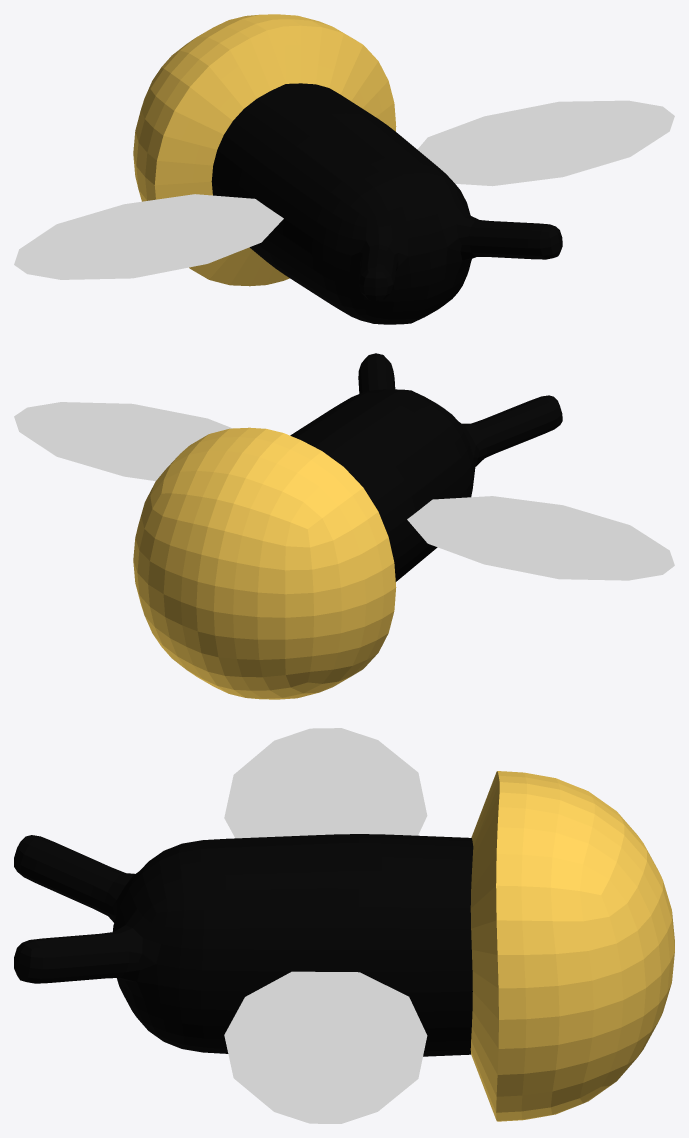
Rendered from LightBug.glb.
3 views of the same model, one above another, from view 1: azimuth 30°, elevation 25°; view 2: azimuth 150°, elevation 25°; view 3: azimuth 270°, elevation 25° (orthographic). The views are drawn at different scales.
Parts seen in each view (by area): view 1: Body, Light, WingR, WingL; view 2: Light, Body, WingR, WingL; view 3: Body, Light, WingL, WingR.
Part boxes in pixels (left/top/right/bottom): Body: left=211, top=83, right=562, bottom=324; Light: left=133, top=14, right=396, bottom=286; WingR: left=14, top=194, right=283, bottom=279; WingL: left=417, top=100, right=674, bottom=186; Light: left=133, top=427, right=396, bottom=699; Body: left=290, top=353, right=562, bottom=581; WingR: left=407, top=496, right=674, bottom=580; WingL: left=14, top=402, right=232, bottom=481; Body: left=14, top=834, right=473, bottom=1056; Light: left=470, top=771, right=674, bottom=1121; WingL: left=224, top=971, right=427, bottom=1123; WingR: left=224, top=728, right=427, bottom=838.
Bounding box in the file's own units: 6.87 × 2.57 × 4.85.
